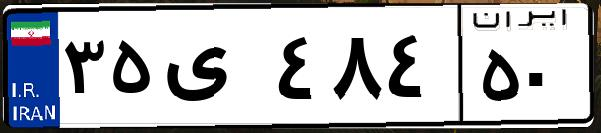0: (525, 38, 570, 115)
3: (57, 26, 110, 100)
4: (270, 28, 330, 110), (385, 28, 445, 110)
5: (475, 38, 525, 113), (110, 28, 158, 98)
8: (330, 28, 385, 110)
ی: (158, 20, 270, 120)
